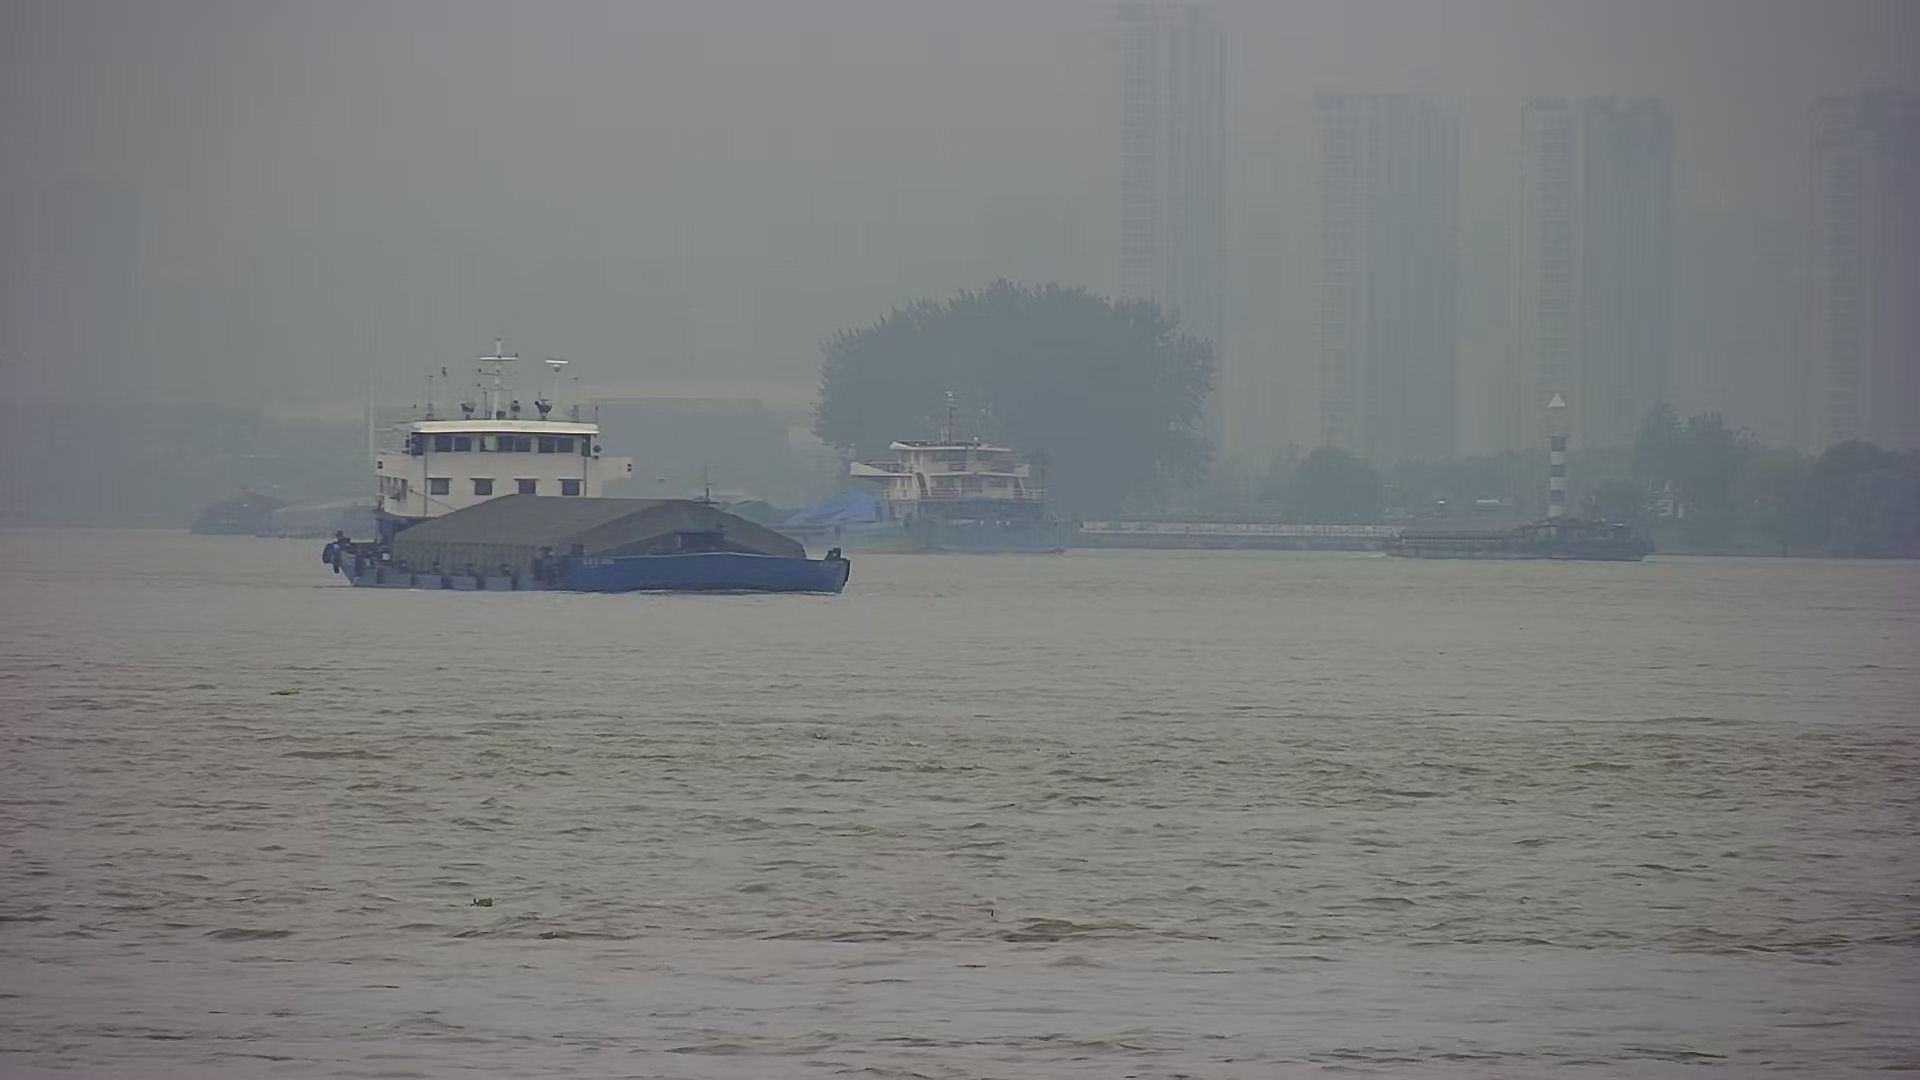ship: (295, 360, 885, 591), (764, 377, 1098, 558), (1373, 492, 1675, 568)
